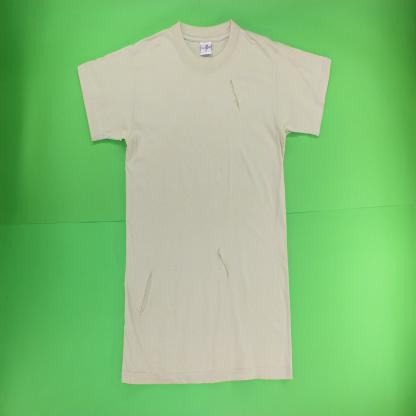hole: (137, 269, 154, 323), (215, 245, 232, 282), (228, 78, 242, 112)
